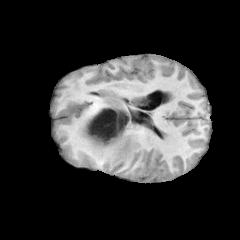glioma: (83, 96, 153, 168)
